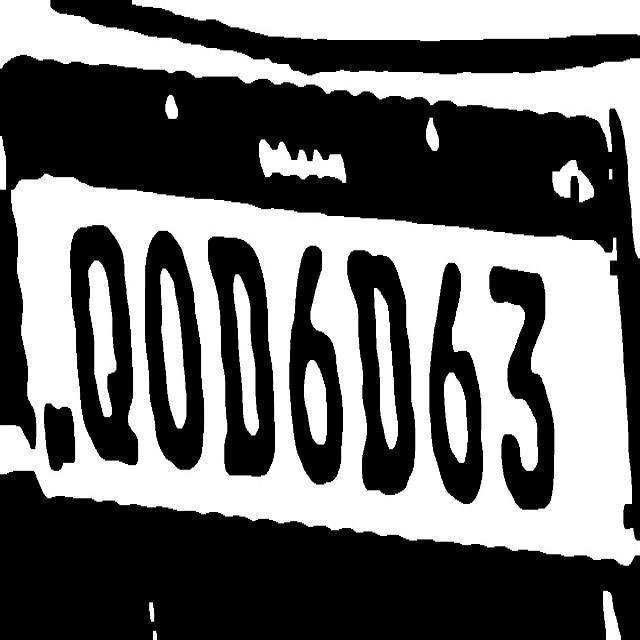3: (488, 258, 556, 512)
6: (286, 244, 344, 490), (428, 259, 482, 503)
d: (346, 242, 416, 496), (207, 228, 275, 477)
o: (143, 228, 204, 476)
q: (68, 204, 140, 476)
